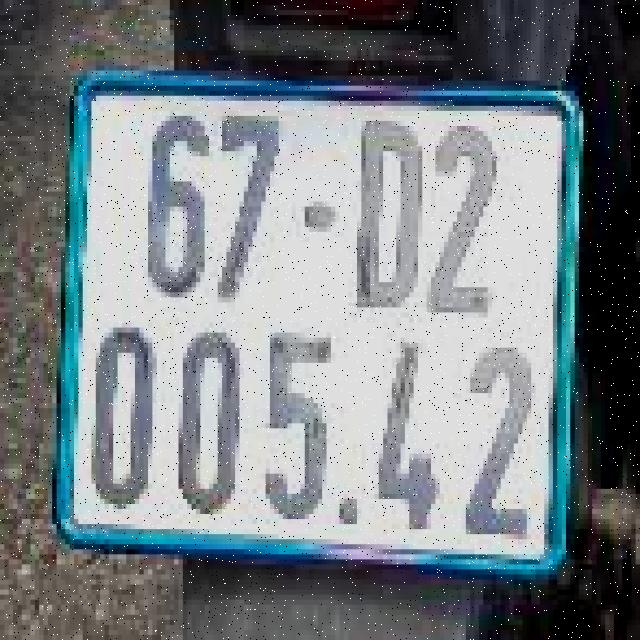0: (161, 323, 257, 544), (83, 302, 161, 529)
2: (457, 325, 544, 547), (426, 106, 501, 343)
4: (366, 328, 457, 554)
5: (257, 312, 348, 540)
6: (133, 108, 215, 310)
7: (209, 101, 287, 302)
D: (342, 98, 424, 325)
